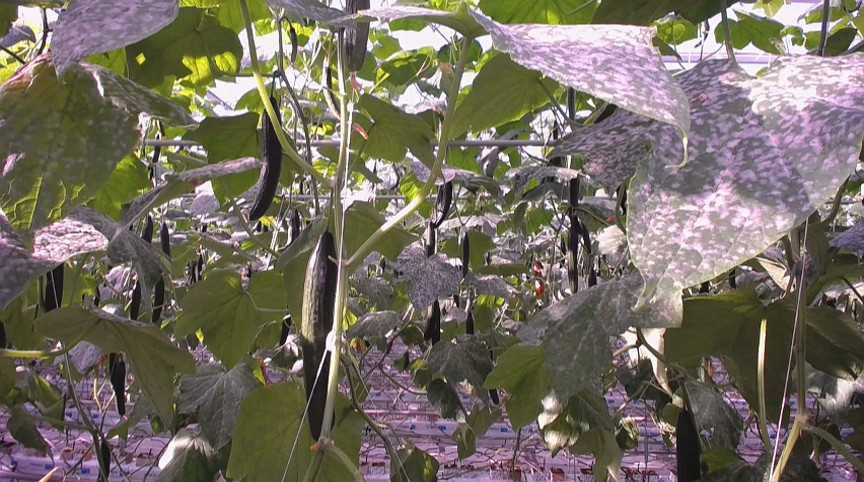cucumber: (302, 233, 334, 441), (249, 98, 280, 220), (343, 1, 372, 70), (678, 412, 702, 482), (564, 224, 579, 295)
